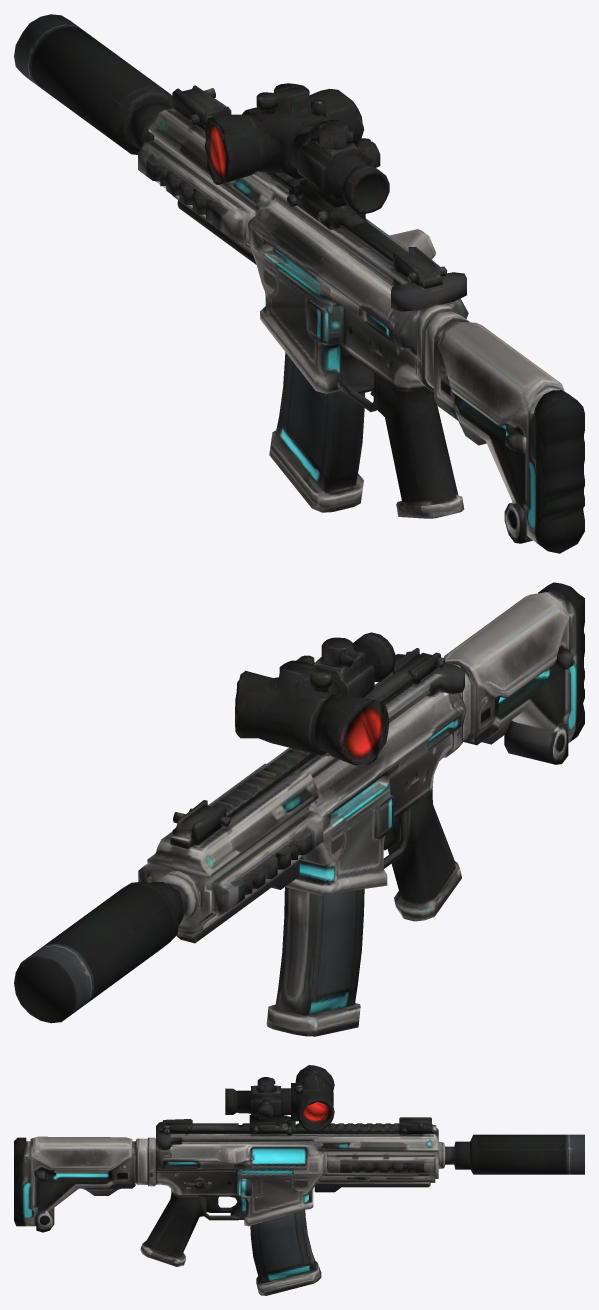
The model's file is weapon-assault-v1.glb.
3 renders of one model, top to bottom at view 1: azimuth 30°, elevation 25°; view 2: azimuth 150°, elevation 25°; view 3: azimuth 270°, elevation 25°, orthographic. The views are drawn at different scales.
Visible parts, largest first — view 1: weapon-assault-v1; view 2: weapon-assault-v1; view 3: weapon-assault-v1.
Part boxes in pixels (box(x1,y1,x2,y2)): weapon-assault-v1: box(14, 14, 584, 553); weapon-assault-v1: box(14, 582, 584, 1036); weapon-assault-v1: box(14, 1065, 584, 1295).
Size of the model in its own units: 0.1429 by 0.3599 by 0.88.
1 material, 1 textured.
